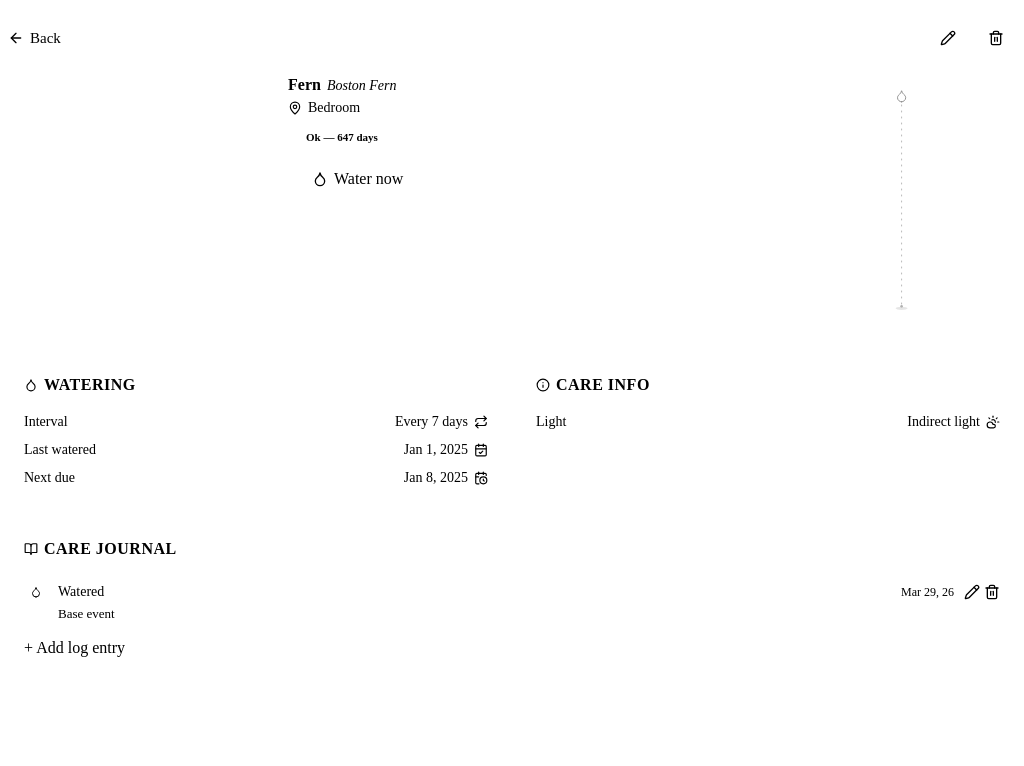
Test: care timeline integration › closes a saved add form before its pending refresh is superseded by delete
Expected: the text "Base event" is shown, [58,606,115,621]
Click the button "+ Add log entry" at (74, 648), box [24,638,125,657]
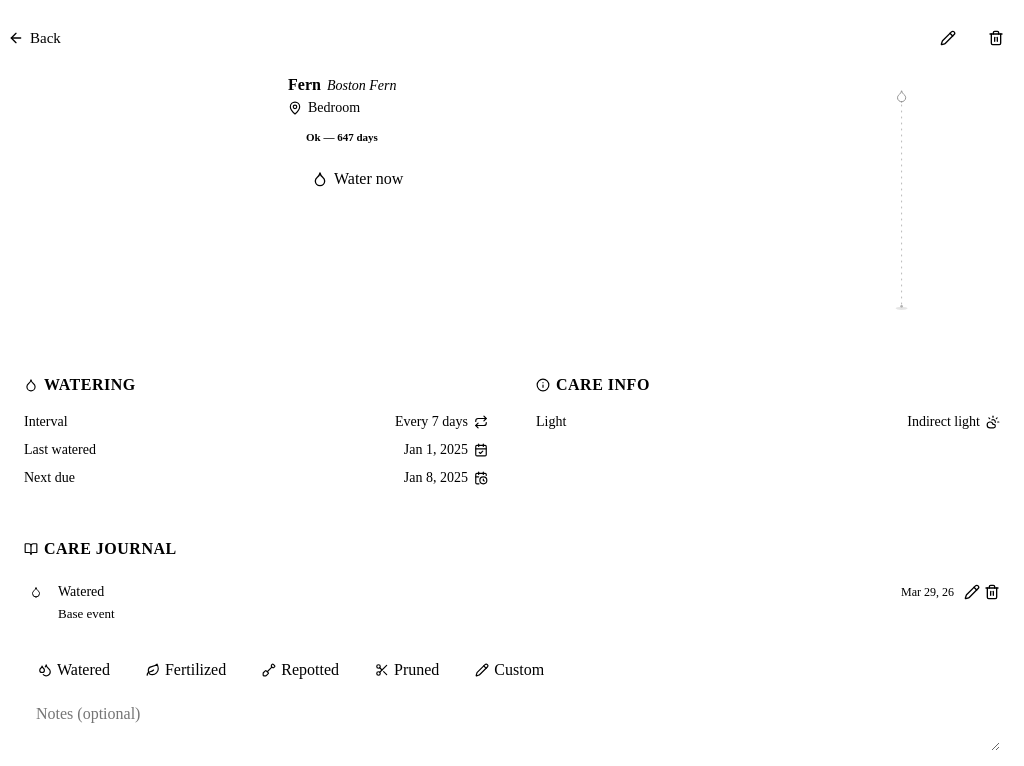
Click the button "Watered" at (74, 670), box [24,654,124,685]
(page scrolled)
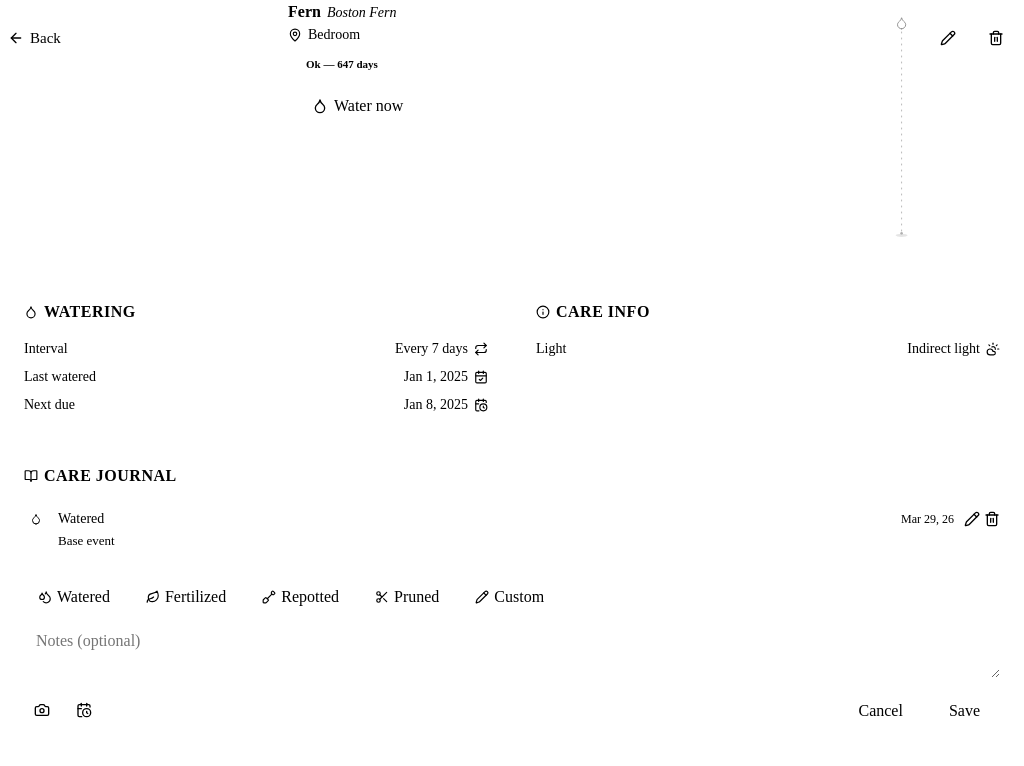
Click the button "Save" at (964, 710), box [929,693,1000,728]
(page scrolled)
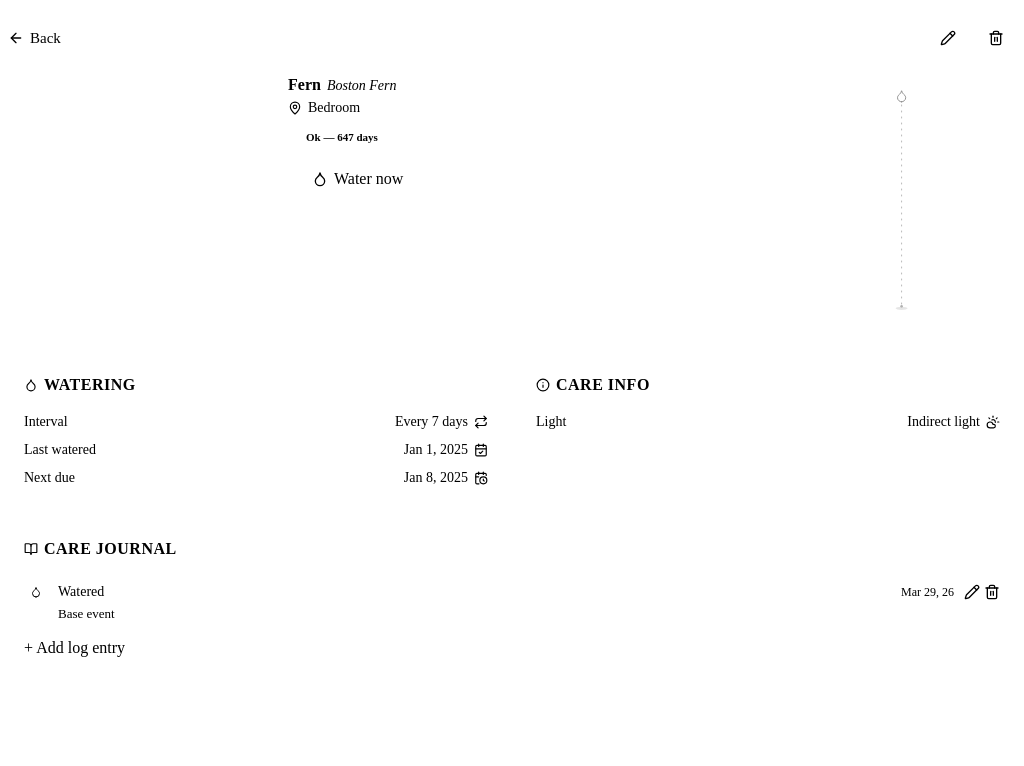
Expected: the element with class "care-entry-form" is gone
Click the button named "Delete log entry" at (992, 592), box [984,584,1000,600]
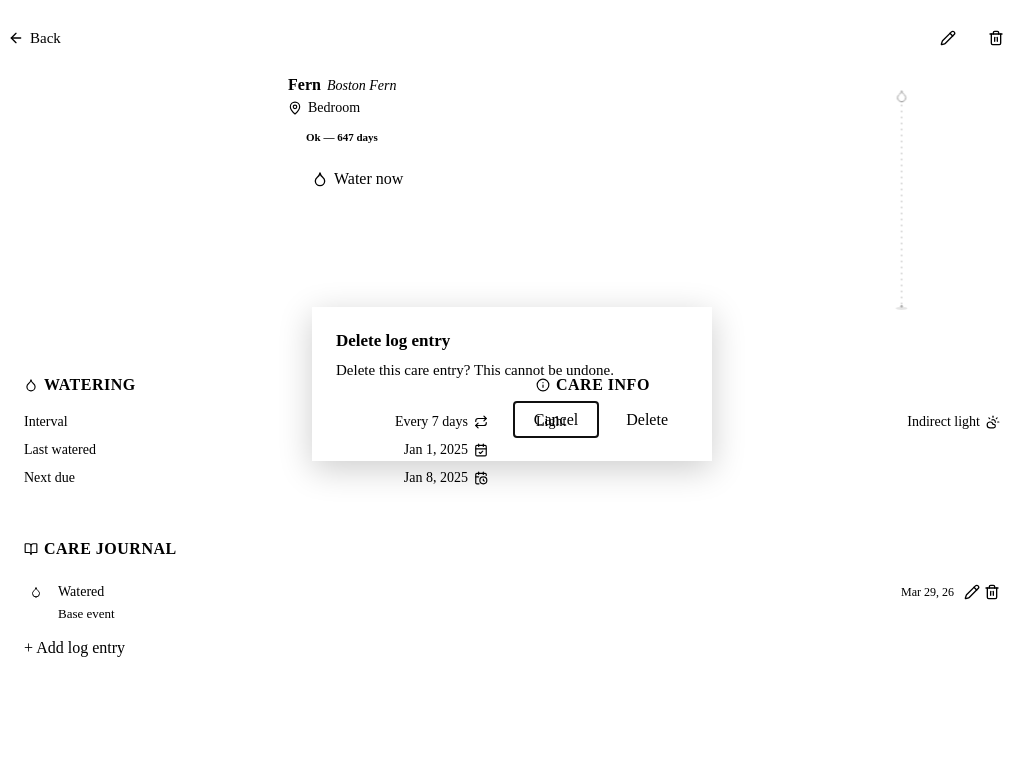
Click the button "Delete" at (647, 419), box [606,402,688,437]
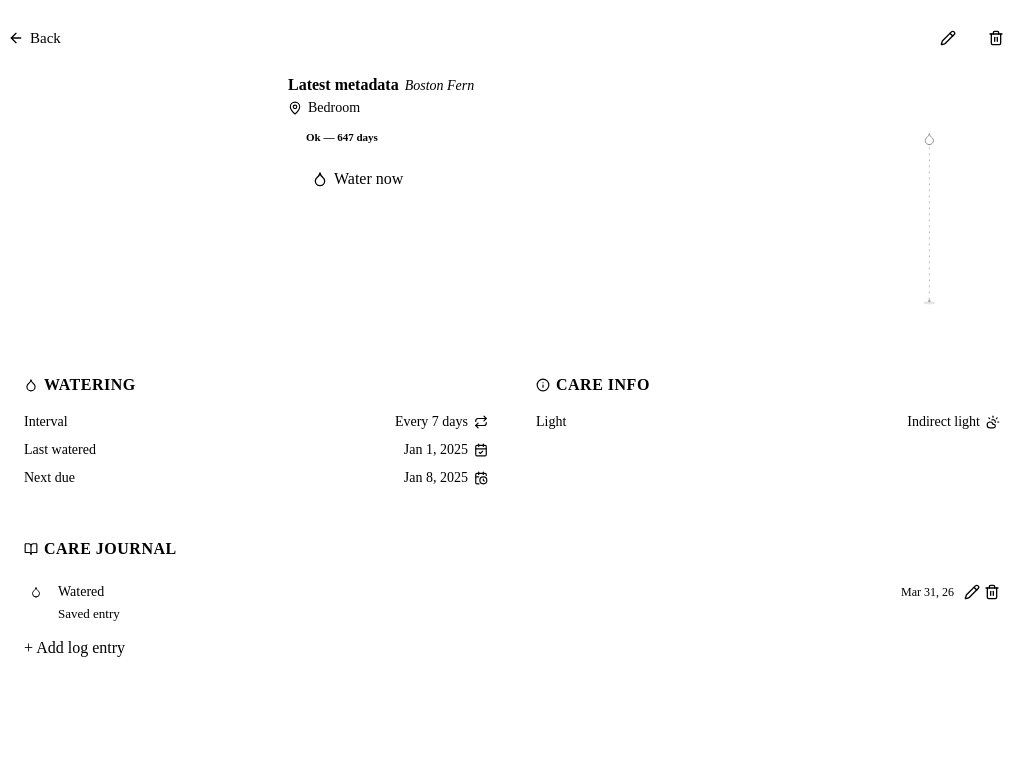
Expected: the button "+ Add log entry" is shown, [24,638,125,657]
Expected: the heading "Latest metadata" is shown, [288,76,399,94]
Expected: the text "Saved entry" is shown, [58,606,120,621]
